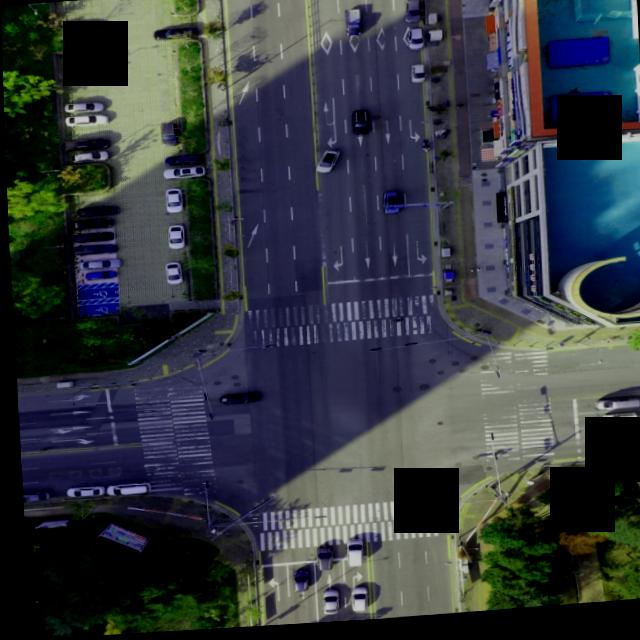car: (339, 543, 358, 570), (308, 547, 326, 573), (377, 194, 395, 217)
small_truck: (341, 12, 360, 41)
